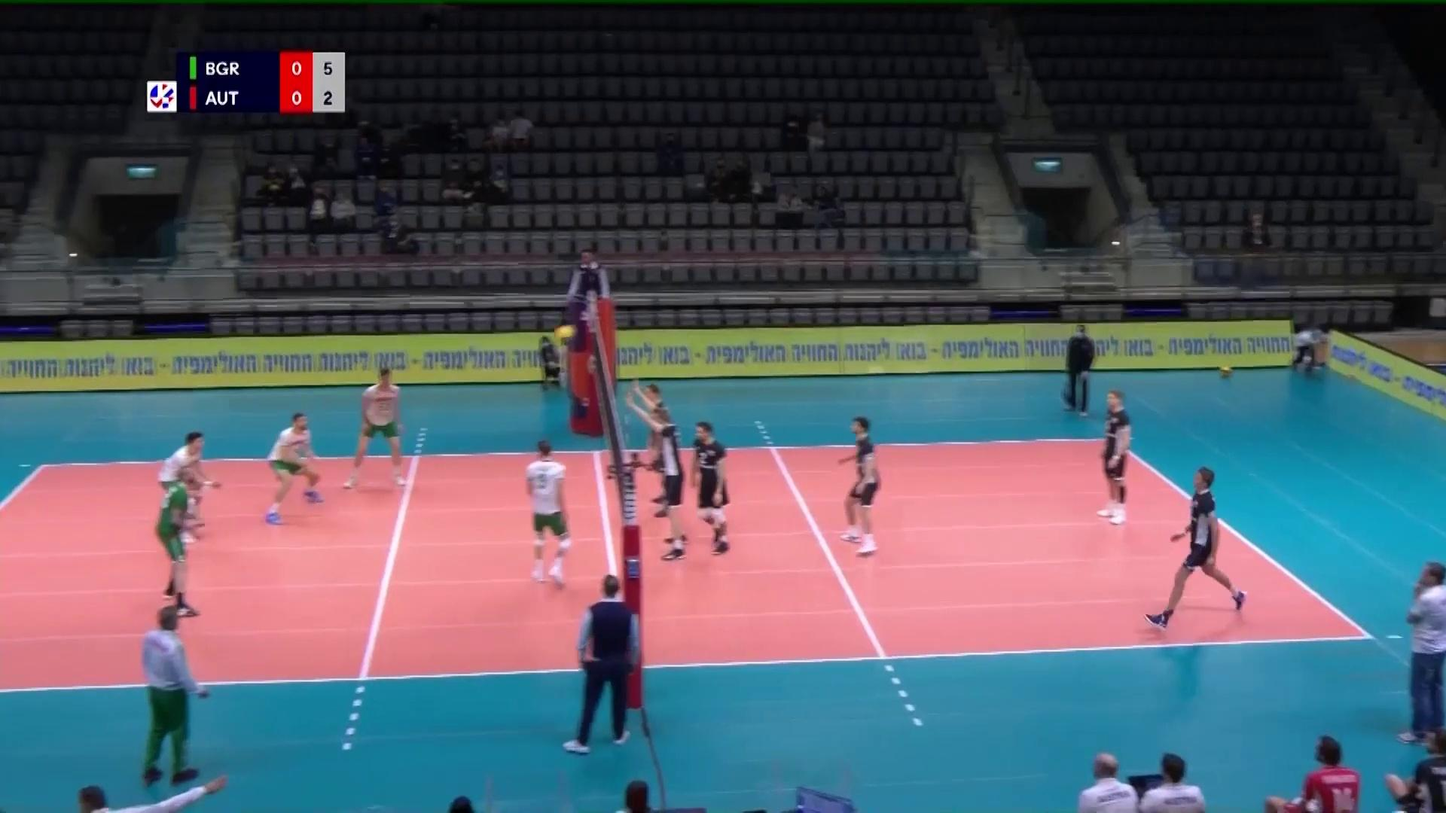ball: (554, 326, 578, 341)
